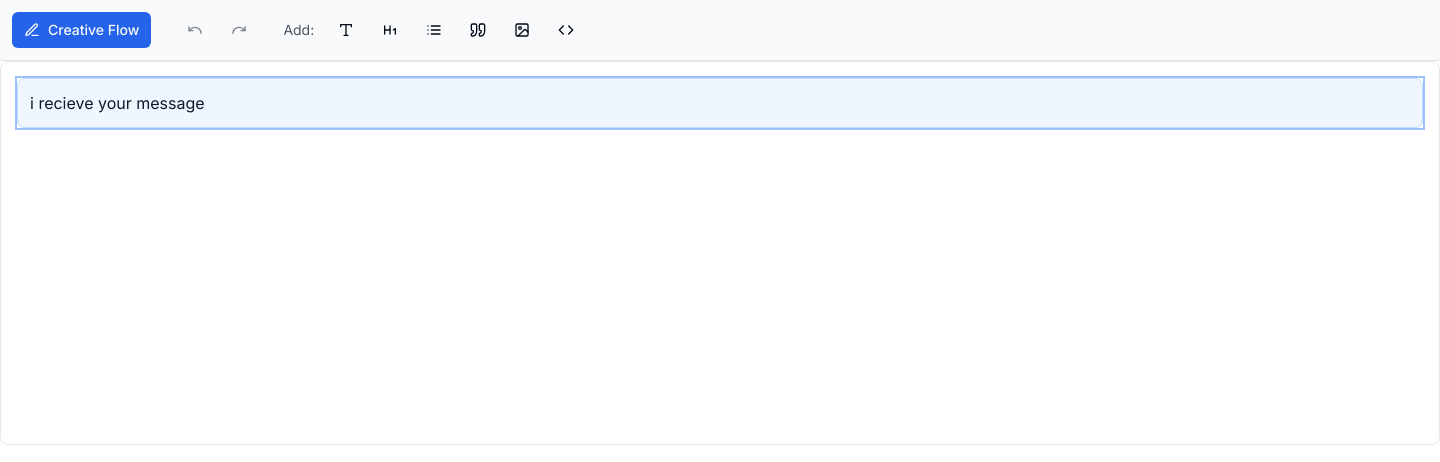
Test case: Suggestion Mode › Mode Toggle › should switch to suggestion mode when toggled
This screenshot has width=1440, height=462.
Click the button "Creative Flow" at (82, 30), box [12,12,151,48]
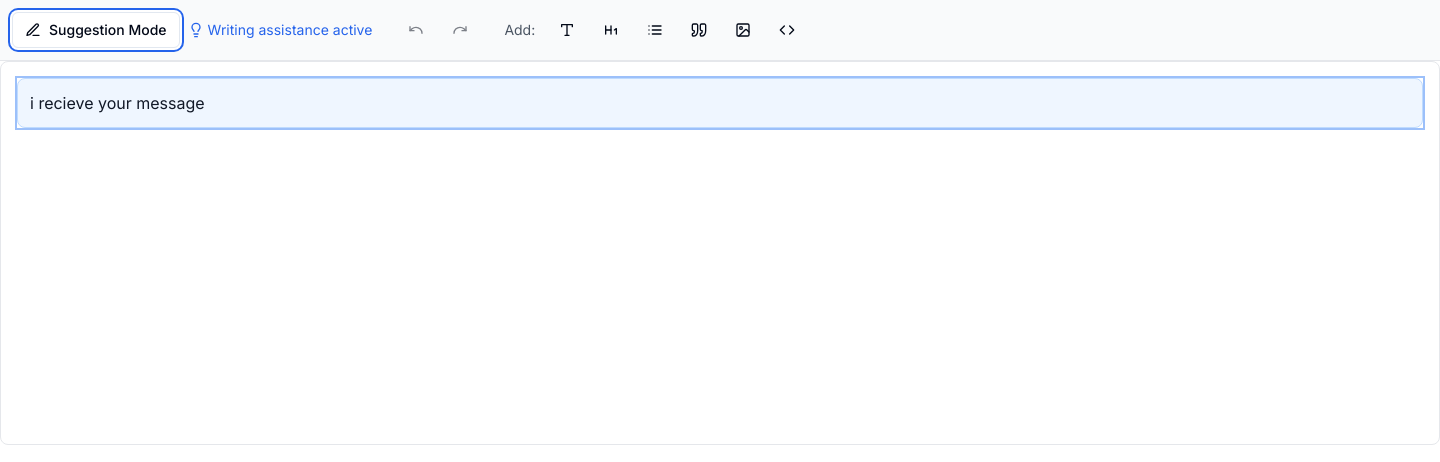
Result: the button "Suggestion Mode" is shown at [12,12,180,48]
